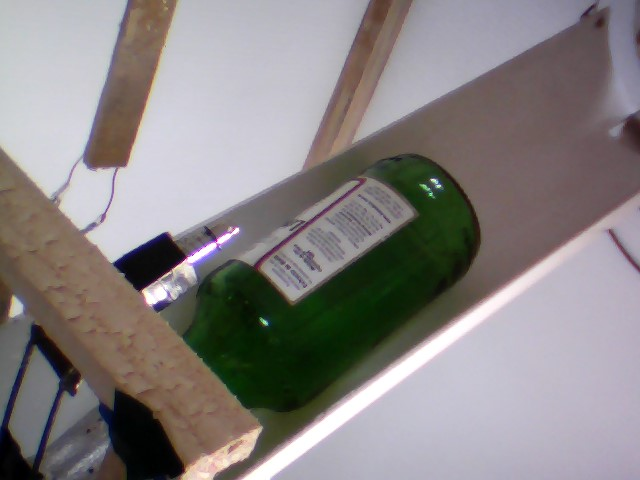vidrio: (174, 144, 490, 415)
